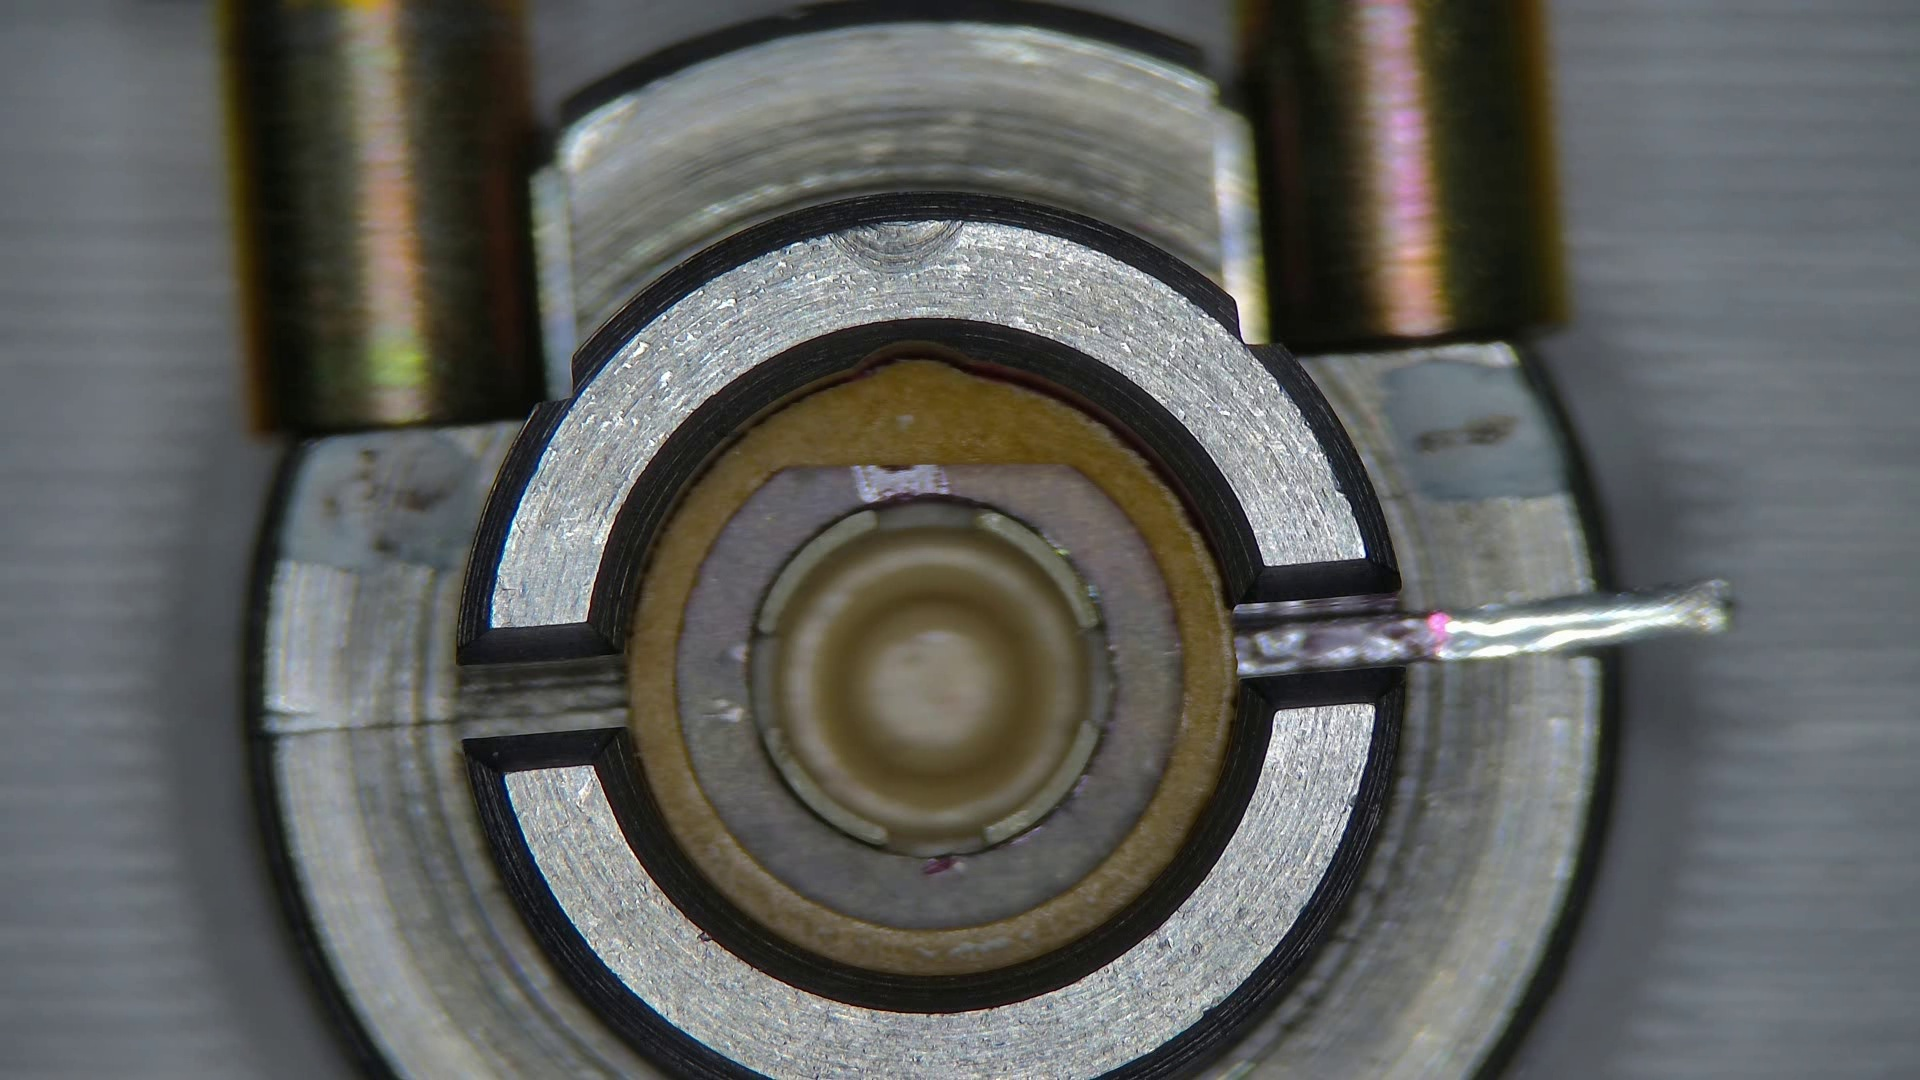YellowOring: (675, 462, 1180, 930)
redOring: (628, 360, 1234, 972)
